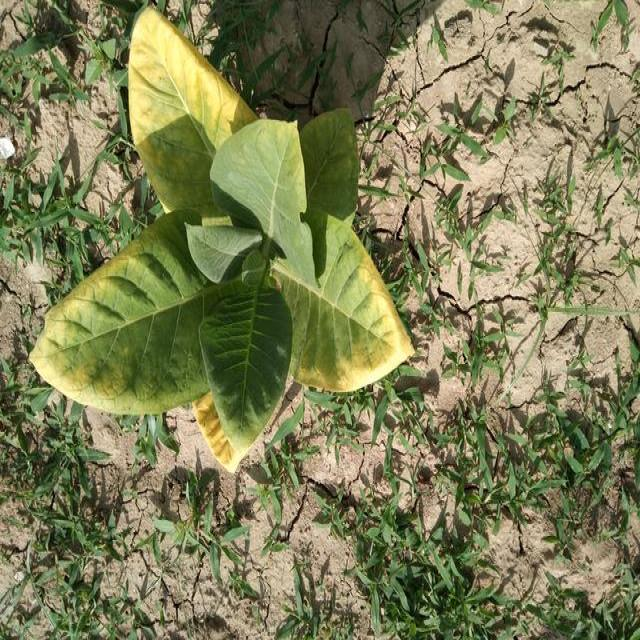crop: (47, 0, 400, 481)
